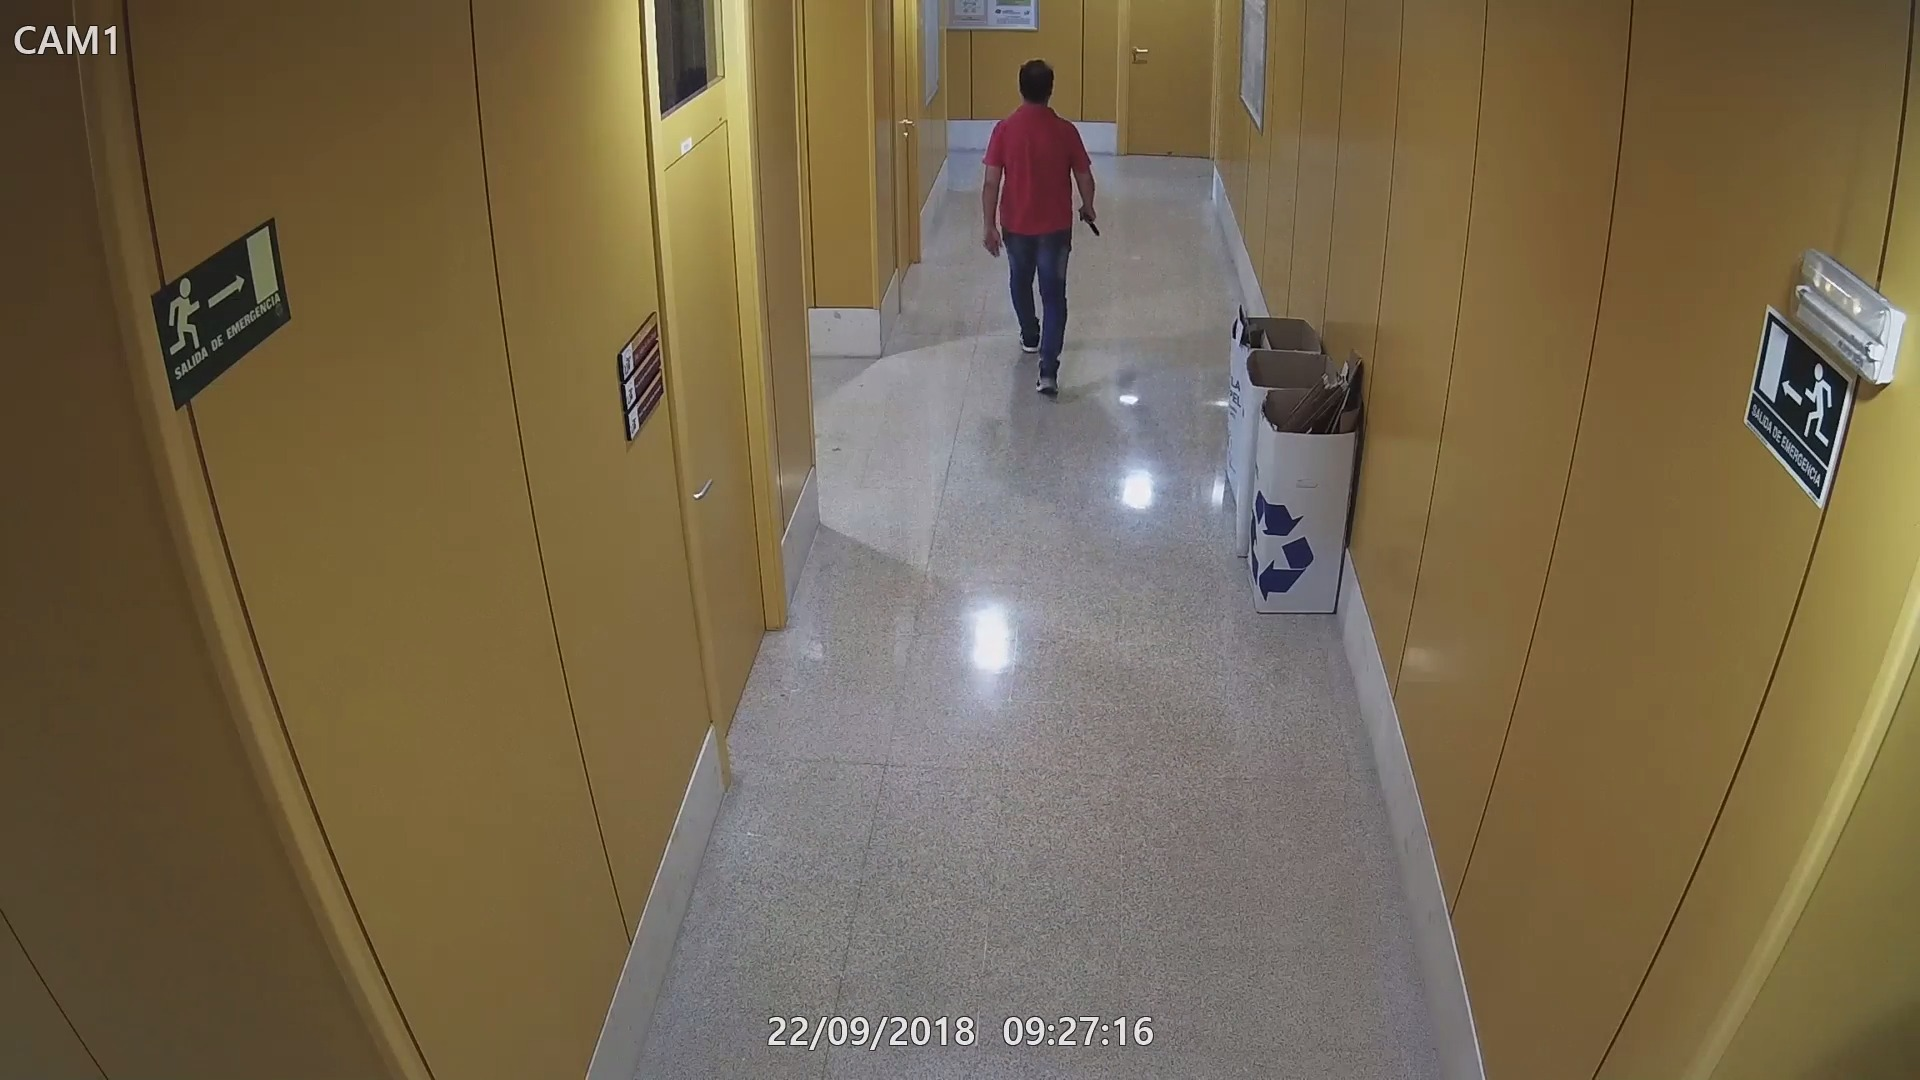Handgun: (1076, 202, 1102, 235)
